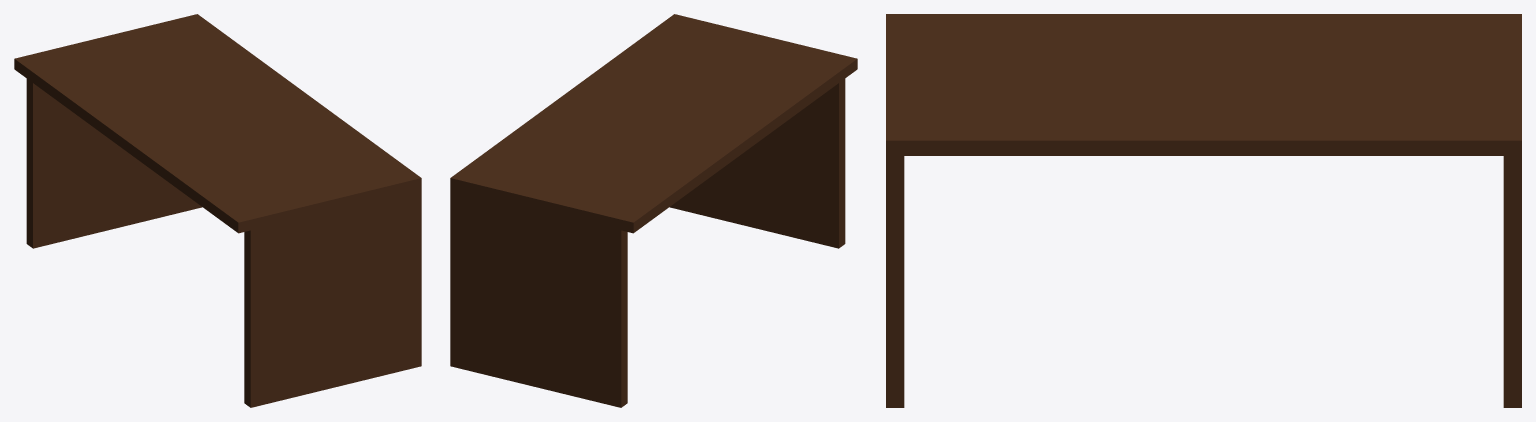
Rendered from desk_bigger.glb.
3 views of the same model, side by side, from view 1: azimuth 30°, elevation 25°; view 2: azimuth 150°, elevation 25°; view 3: azimuth 270°, elevation 25° (orthographic). The views are drawn at different scales.
Visible parts, largest first — view 1: Cube.002; view 2: Cube.002; view 3: Cube.002.
Part boxes in pixels (bbox=[...]): Cube.002: bbox=[14, 14, 421, 407]; Cube.002: bbox=[450, 14, 857, 407]; Cube.002: bbox=[886, 14, 1521, 407].
Bounding box in the file's own units: 1.61 × 1.58 × 3.41.
Materials: 1 (1 with a texture image).
